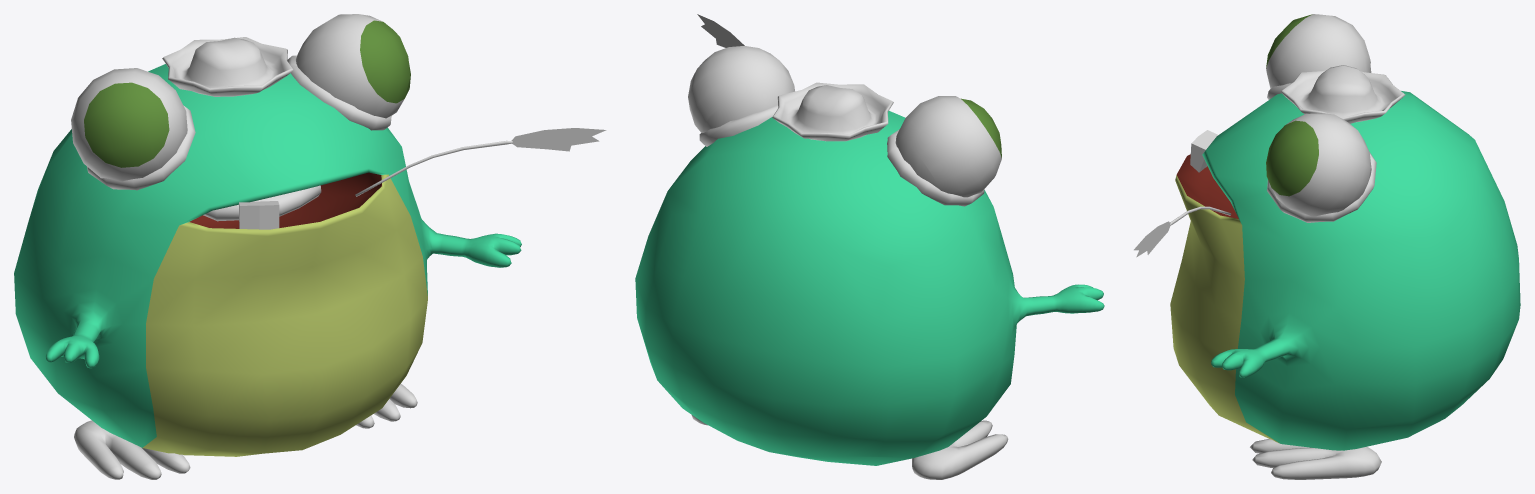
The model's file is Frog.fbx.
3 views of the same model, side by side, from view 1: azimuth 30°, elevation 25°; view 2: azimuth 150°, elevation 25°; view 3: azimuth 270°, elevation 25° (orthographic). The views are drawn at different scales.
Visible parts, largest first — view 1: Body, Eyes, Hat, Feet, Eyelids, Straw, Tongue, Tooth; view 2: Body, Eyes, Hat, Feet, Eyelids, Straw; view 3: Body, Eyes, Hat, Feet, Eyelids, Straw, Tooth.
Boxes of the visible parts, left/top/right/bottom form: Body: left=14, top=64, right=521, bottom=456; Eyes: left=71, top=14, right=410, bottom=181; Hat: left=162, top=37, right=293, bottom=96; Feet: left=74, top=384, right=417, bottom=479; Eyelids: left=87, top=55, right=391, bottom=190; Straw: left=355, top=128, right=606, bottom=196; Tongue: left=203, top=185, right=321, bottom=221; Tooth: left=239, top=201, right=279, bottom=229; Body: left=635, top=111, right=1104, bottom=465; Eyes: left=688, top=46, right=1001, bottom=197; Hat: left=772, top=82, right=893, bottom=141; Feet: left=691, top=415, right=1008, bottom=479; Eyelids: left=699, top=105, right=984, bottom=206; Straw: left=697, top=14, right=744, bottom=47; Body: left=1170, top=91, right=1520, bottom=450; Eyes: left=1266, top=14, right=1371, bottom=216; Hat: left=1281, top=65, right=1405, bottom=123; Feet: left=1250, top=439, right=1381, bottom=479; Eyelids: left=1267, top=83, right=1376, bottom=222; Straw: left=1134, top=206, right=1231, bottom=257; Tooth: left=1190, top=130, right=1218, bottom=172.
Bounding box in the file's own units: 0.3045 × 0.226 × 0.2254.
